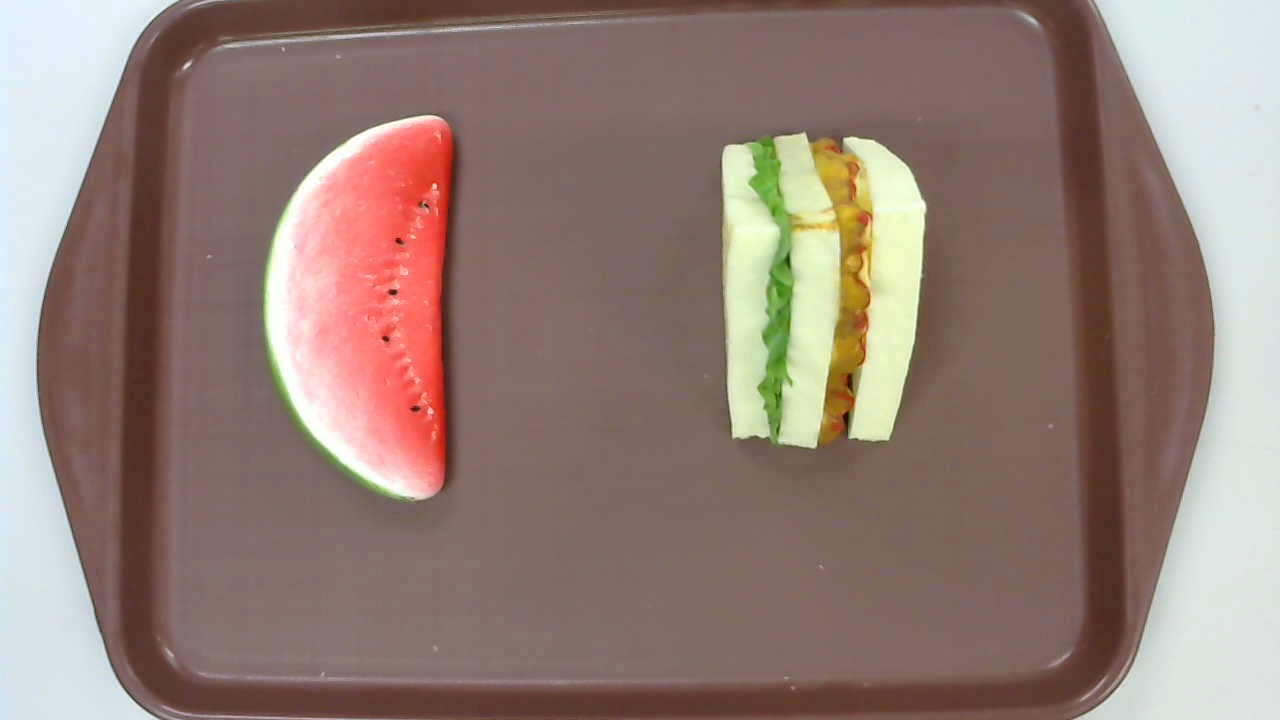sandwich: (719, 132, 926, 449)
water melon: (260, 114, 453, 501)
